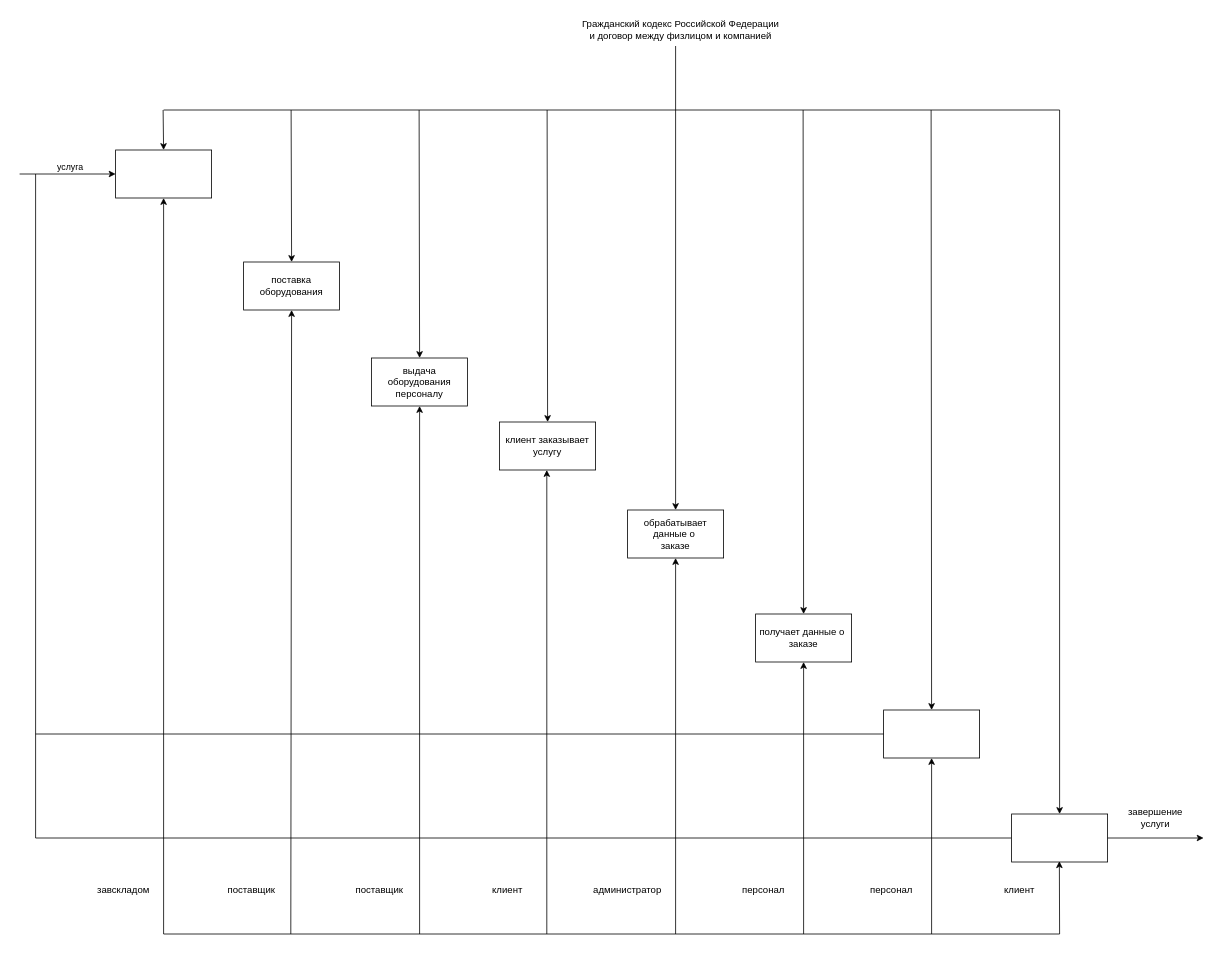
The diagram is 1224 pixels wide and 954 high, and some of its shapes have lost their labels. The box of each missing label's shape, as (x1, y1, x2, y2) in pixels:
заказ оборудования у поставщика: (115, 149, 212, 198)
клиент получает услугу: (1011, 813, 1108, 862)
персонал отправляется на выполнение заказа: (883, 709, 980, 758)
